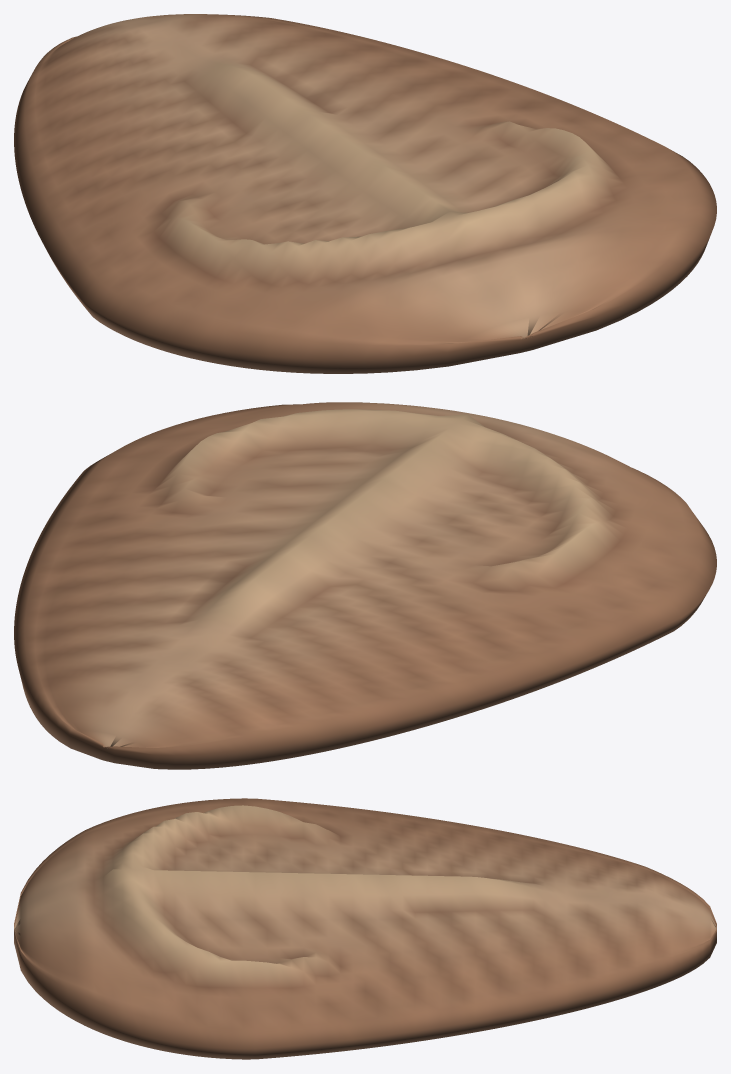
File: ParvancorinaMinchami.fbx
3 renders of one model, top to bottom at view 1: azimuth 30°, elevation 25°; view 2: azimuth 150°, elevation 25°; view 3: azimuth 270°, elevation 25°, orthographic. The views are drawn at different scales.
Visible parts, largest first — view 1: ParvancorinaMinchami; view 2: ParvancorinaMinchami; view 3: ParvancorinaMinchami.
Boxes of the visible parts, x1=… form: ParvancorinaMinchami: x1=14, y1=14, x2=716, y2=373; ParvancorinaMinchami: x1=14, y1=402, x2=716, y2=769; ParvancorinaMinchami: x1=14, y1=798, x2=716, y2=1059.
Size of the model in its own units: 0.9592 by 0.1293 by 1.16.
